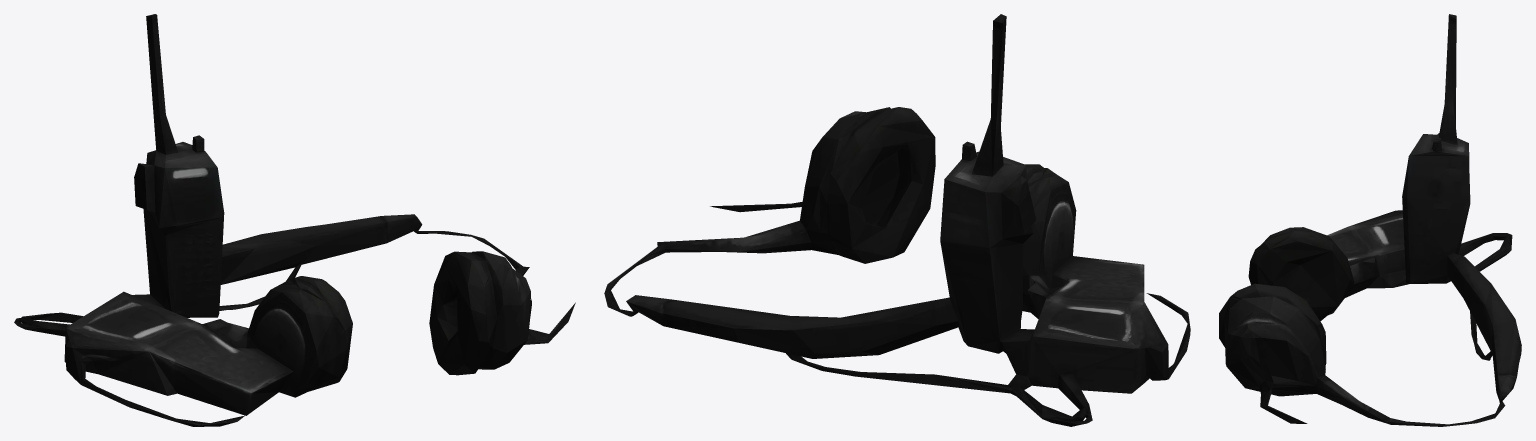
Rendered from security-radio.glb.
The picture shows the model from 3 angles, left to right: view 1: azimuth 30°, elevation 25°; view 2: azimuth 150°, elevation 25°; view 3: azimuth 270°, elevation 25°; orthographic projection. The views are drawn at different scales.
Parts seen in each view (by area): view 1: geometry_0; view 2: geometry_0; view 3: geometry_0.
Boxes of the visible parts, x1,y1,x2,y2 form: geometry_0: (14,14,575,426); geometry_0: (604,14,1190,426); geometry_0: (1219,14,1521,426).
Bounding box in the file's own units: 0.9898 × 0.6978 × 0.6641.
Materials: 1 (1 with a texture image).
